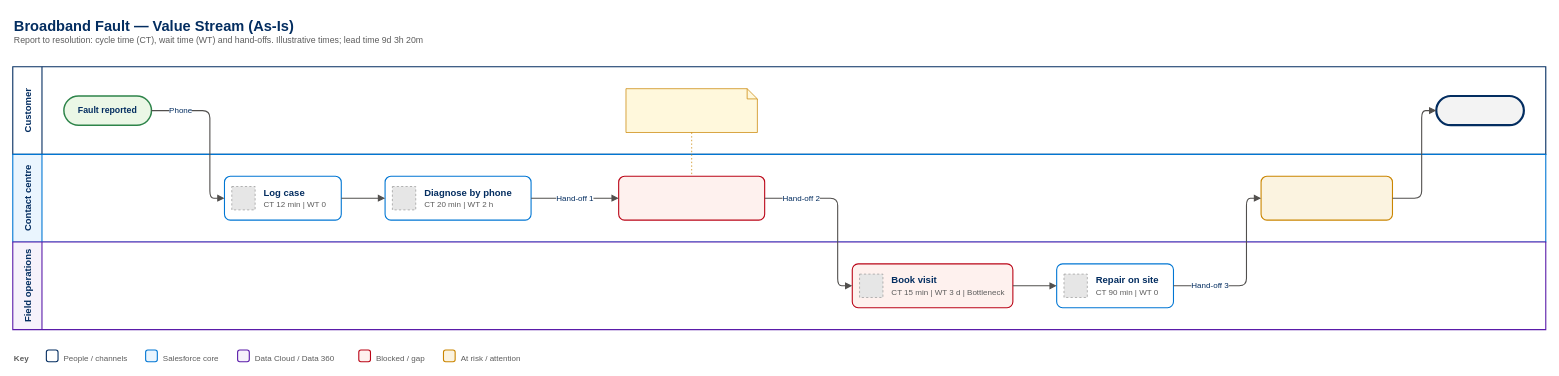
Image size: 1559x376. Some labels were removed from this diagram. Grey dashed boxes stand in for pictures. Here are the shapes that lost their labels. From the top down, the centre of each, then its label:
At (691,110): "Total CT 2 h 47 m, WT 9 d 3 h: 99% of lead time is waiting".
At (1480,110): "Case closed".
At (691,197): "Escalate by email CT 10 min | WT 1 d | Bottleneck".
At (1326,197): "Update records CT 20 min | WT 5 d | Rework".
